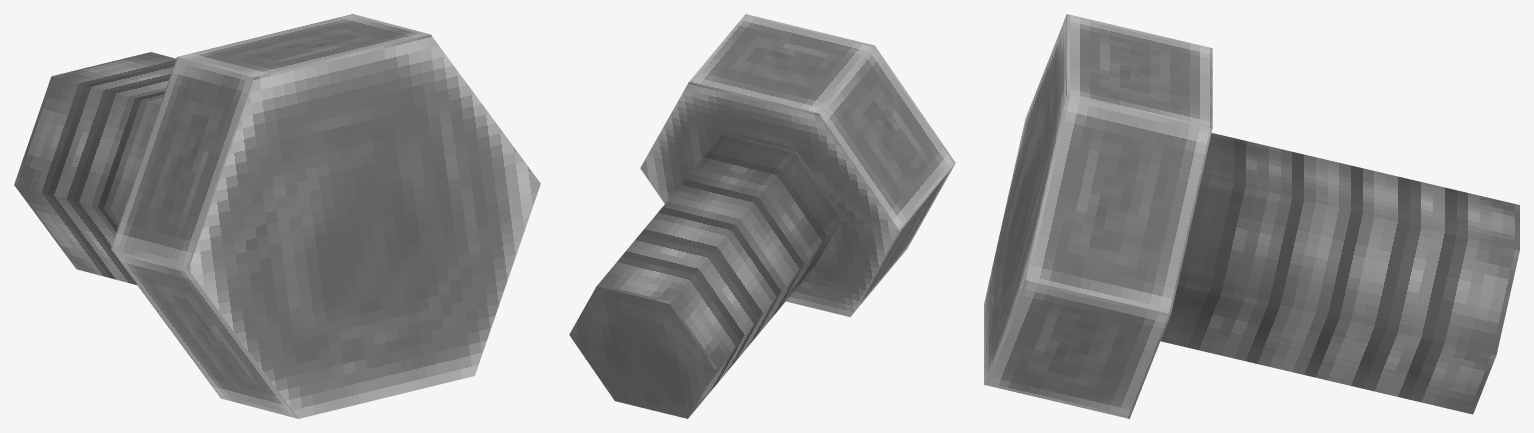
3 views of the same model, side by side, from view 1: azimuth 30°, elevation 25°; view 2: azimuth 150°, elevation 25°; view 3: azimuth 270°, elevation 25° (orthographic). The views are drawn at different scales.
Parts seen in each view (by area): view 1: gray_bolt; view 2: gray_bolt; view 3: gray_bolt.
Part boxes in pixels (x1,y1,x2,y2): gray_bolt: (14, 14, 540, 418); gray_bolt: (569, 14, 955, 418); gray_bolt: (984, 14, 1519, 418).
Size of the model in its own units: 40.53 by 39.52 by 56.87.
1 material, 1 textured.
